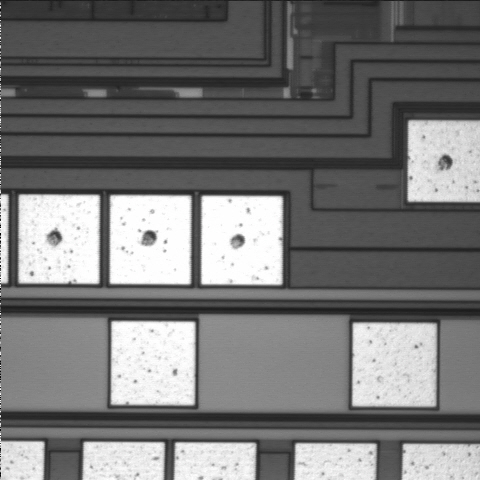pad: (201, 196, 283, 285), (19, 195, 100, 284), (110, 195, 191, 284), (111, 321, 195, 405), (352, 323, 436, 406)
